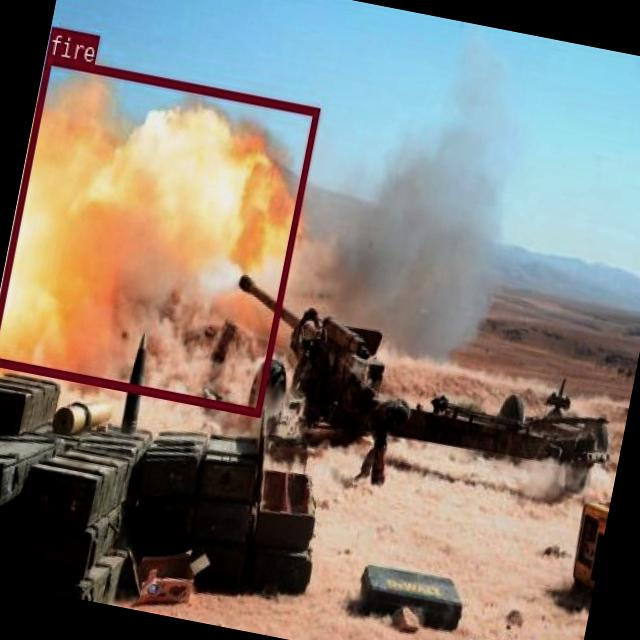fire: (0, 54, 319, 416)
